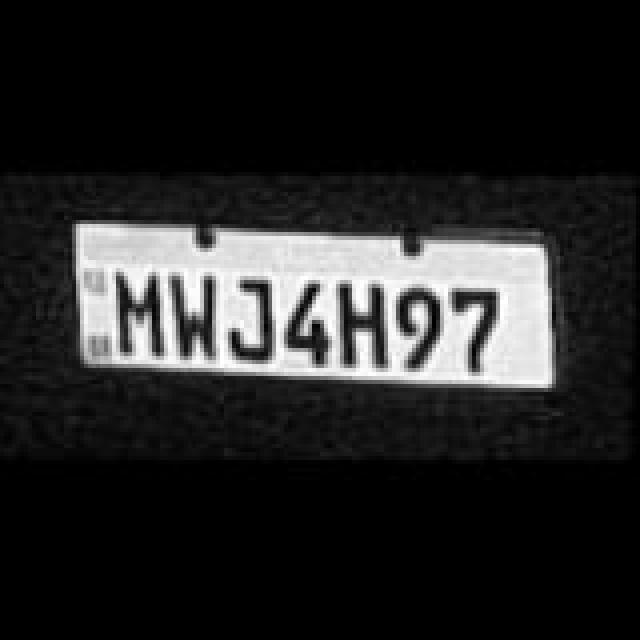4: (288, 276, 336, 364)
7: (456, 284, 504, 372)
9: (396, 286, 444, 374)
H: (344, 280, 392, 368)
J: (228, 272, 276, 360)
M: (118, 266, 170, 354)
W: (172, 272, 220, 360)
